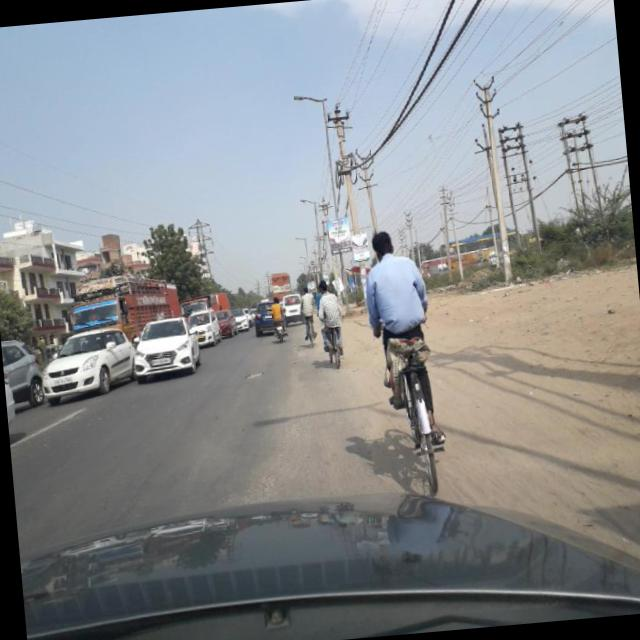pothole: (240, 366, 268, 383)
